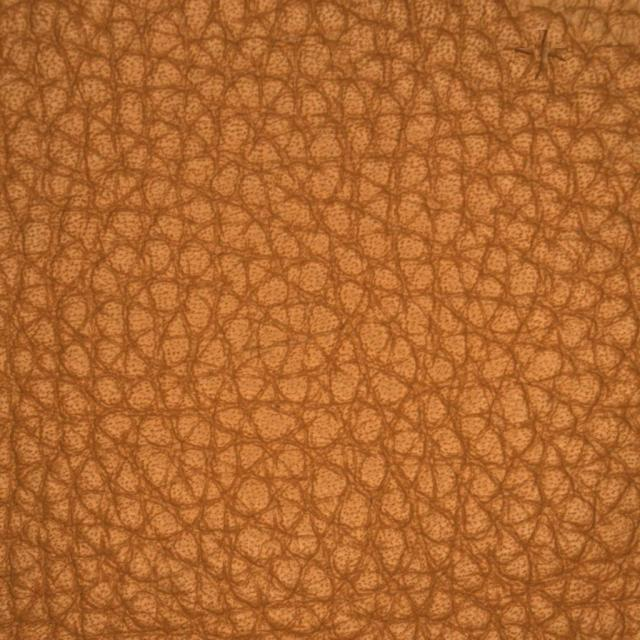Scratch: (462, 10, 621, 158)
